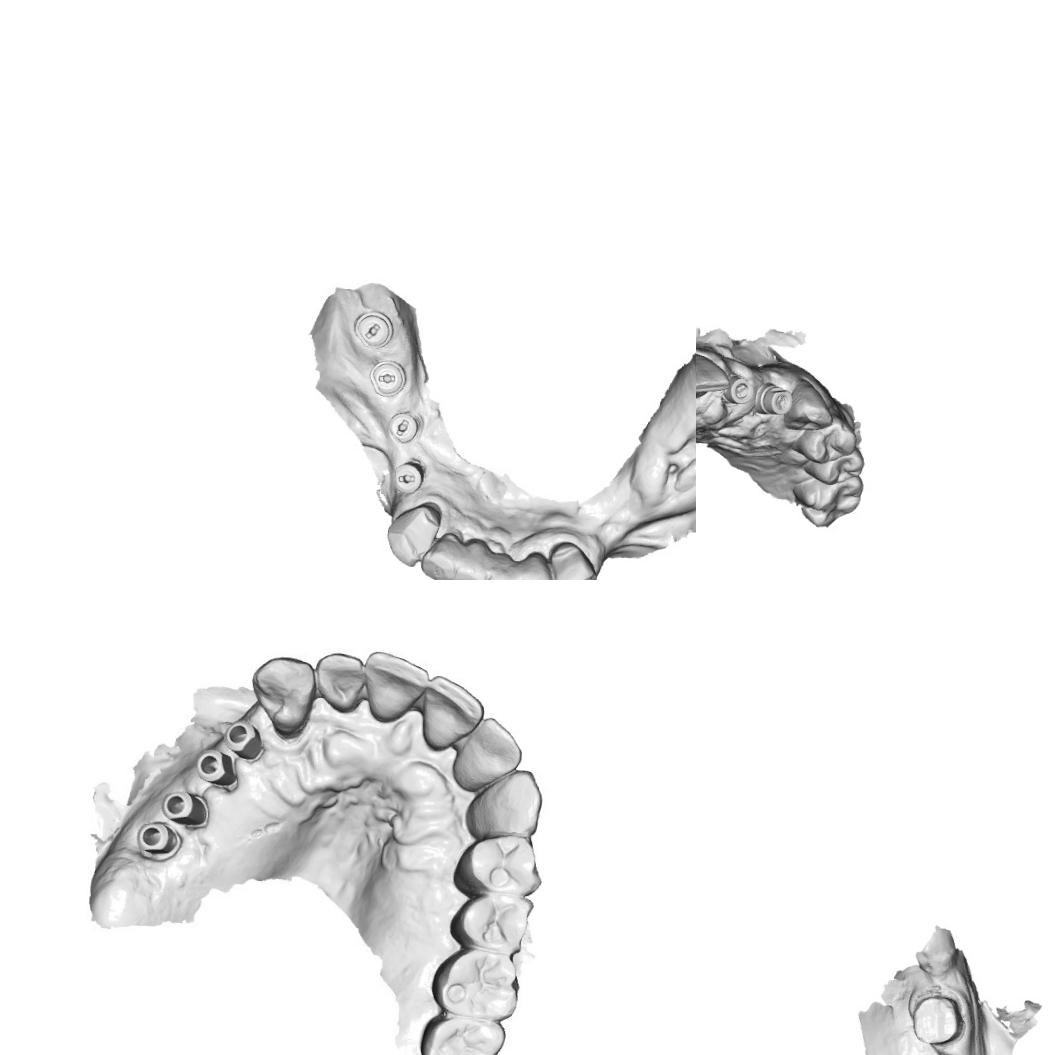canine: (458, 764, 548, 846), (246, 650, 316, 740), (383, 499, 444, 570), (780, 374, 836, 434), (545, 538, 599, 580)
crown: (910, 994, 966, 1047)
implant: (752, 377, 796, 418), (134, 820, 180, 858), (162, 790, 205, 829), (221, 717, 261, 757), (718, 369, 756, 408), (194, 748, 232, 782)
implant_minus: (352, 308, 396, 350), (366, 356, 408, 398), (390, 457, 428, 496), (386, 408, 424, 444)
incisor: (422, 672, 479, 748), (366, 648, 426, 718), (456, 716, 510, 792), (312, 650, 368, 713), (418, 528, 460, 580), (696, 348, 733, 403), (451, 537, 493, 580), (513, 549, 558, 580), (483, 549, 519, 580)
molar: (428, 944, 518, 1020), (790, 468, 864, 530), (414, 1007, 508, 1055)
premolar: (450, 831, 546, 900), (444, 892, 534, 950), (788, 410, 860, 466), (800, 439, 866, 488)
